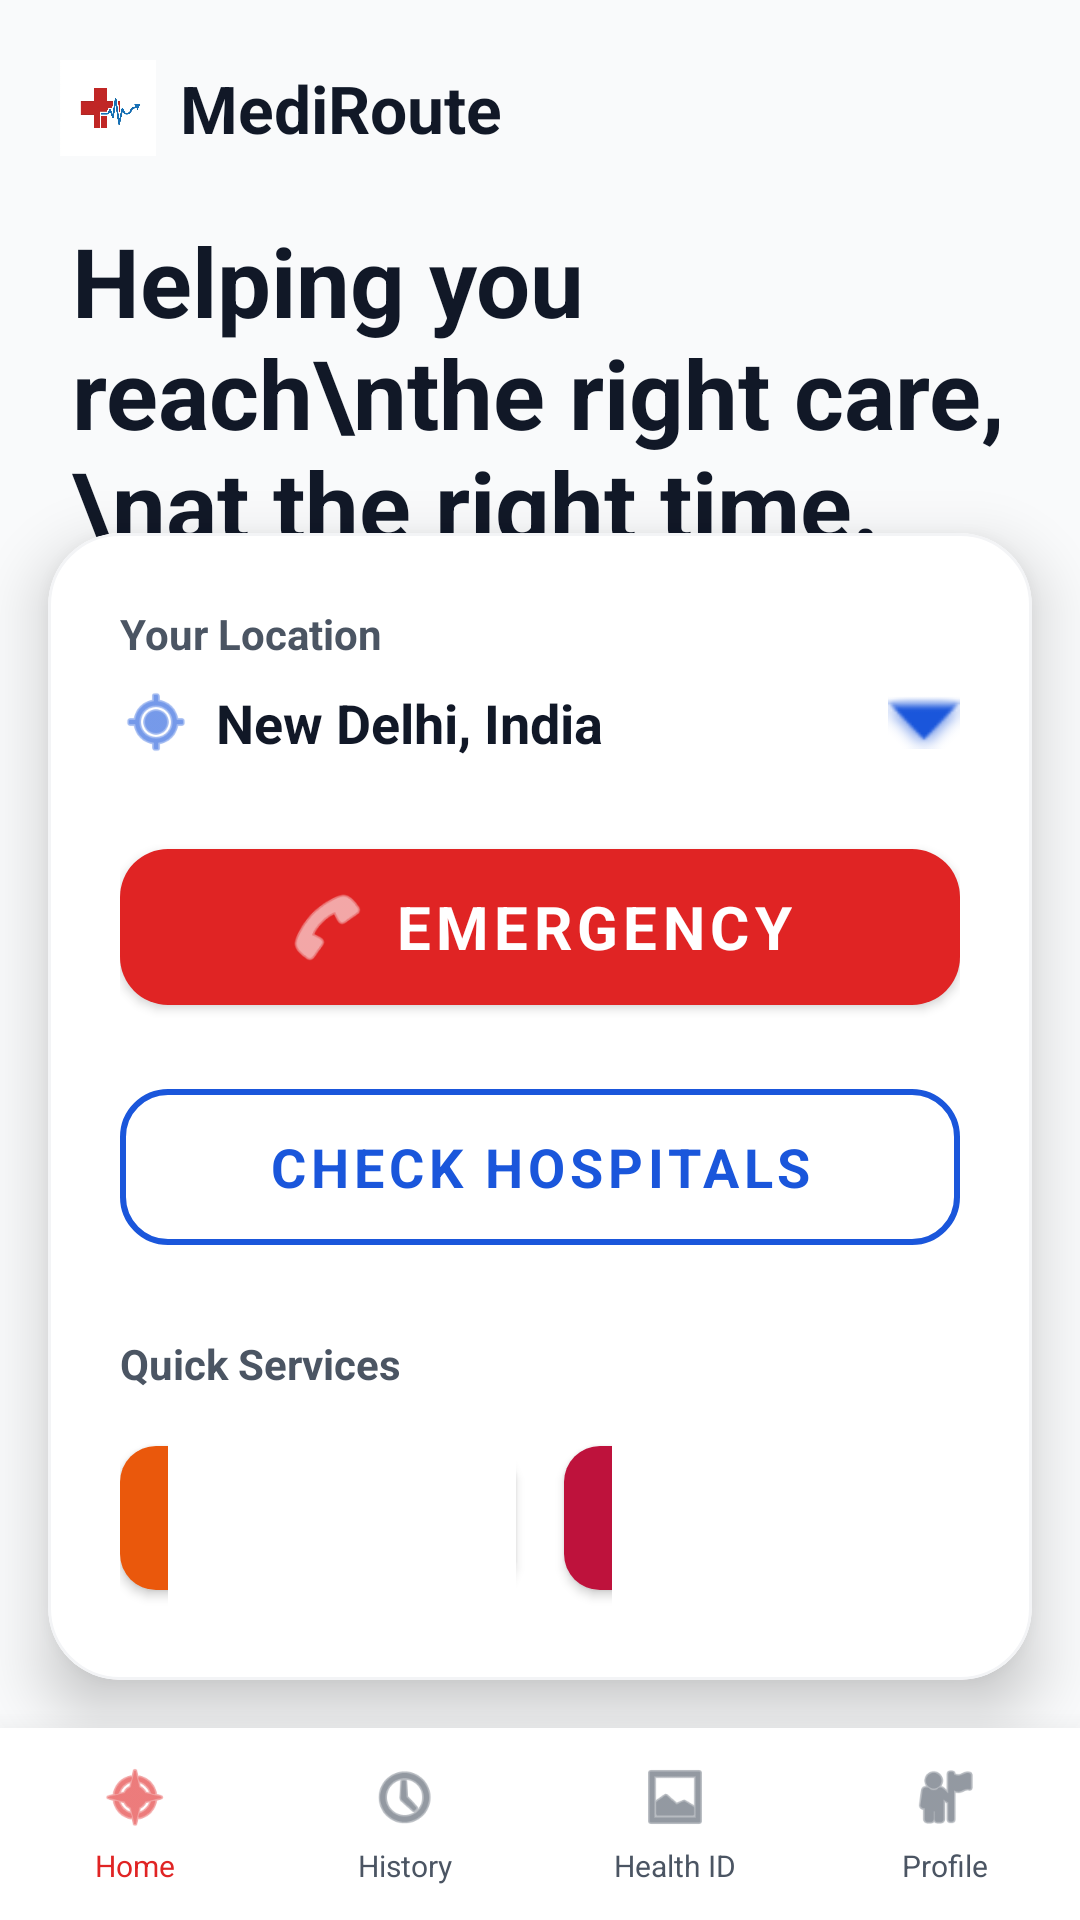

Icon bounding boxes for this 1080×1920 phone screenshot, format rect(x1, y1, x2, y2):
arrow down float: rect(888, 698, 960, 747)
compass: rect(106, 1769, 163, 1826)
gallery: rect(648, 1770, 702, 1824)
mylocation: rect(127, 693, 185, 751)
myplaces: rect(919, 1770, 973, 1824)
